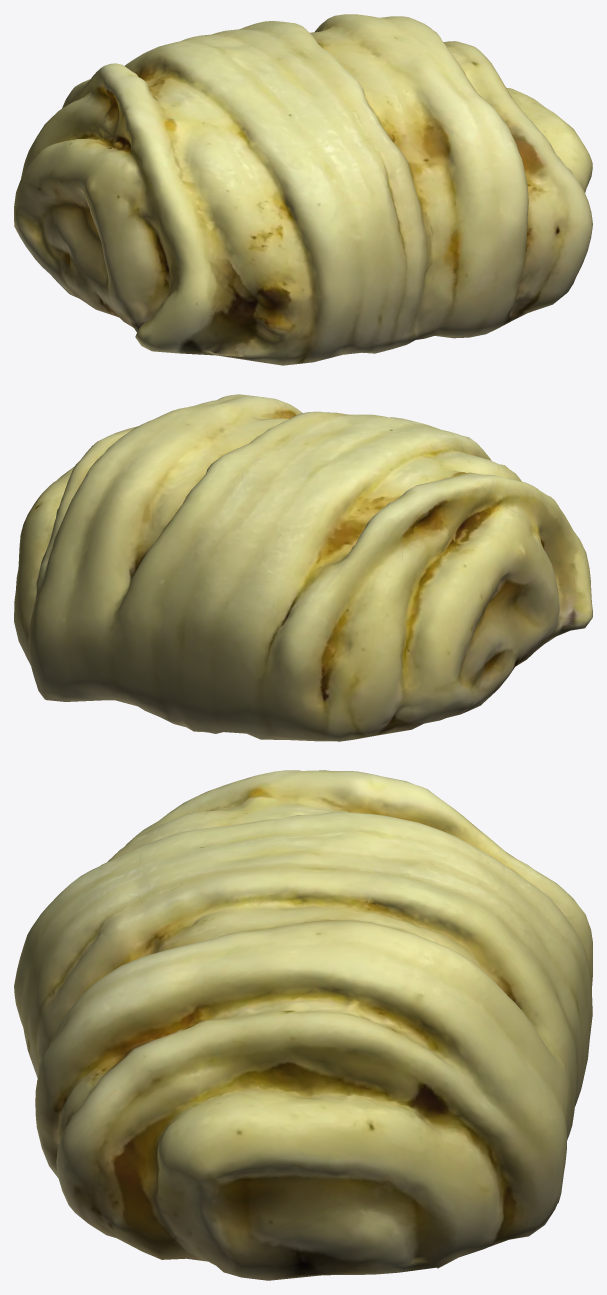
Rendered from 肉沫花卷.glb.
3 renders of one model, top to bottom at view 1: azimuth 30°, elevation 25°; view 2: azimuth 150°, elevation 25°; view 3: azimuth 270°, elevation 25°, orthographic. The views are drawn at different scales.
Visible parts, largest first — view 1: 未知花卷.usdz; view 2: 未知花卷.usdz; view 3: 未知花卷.usdz.
Boxes of the visible parts, x1,y1,x2,y2 form: 未知花卷.usdz: [14, 14, 592, 365]; 未知花卷.usdz: [14, 394, 592, 741]; 未知花卷.usdz: [14, 770, 592, 1280].
Size of the model in its own units: 0.0746 by 0.037 by 0.0647.
Materials: 1 (1 with a texture image).
